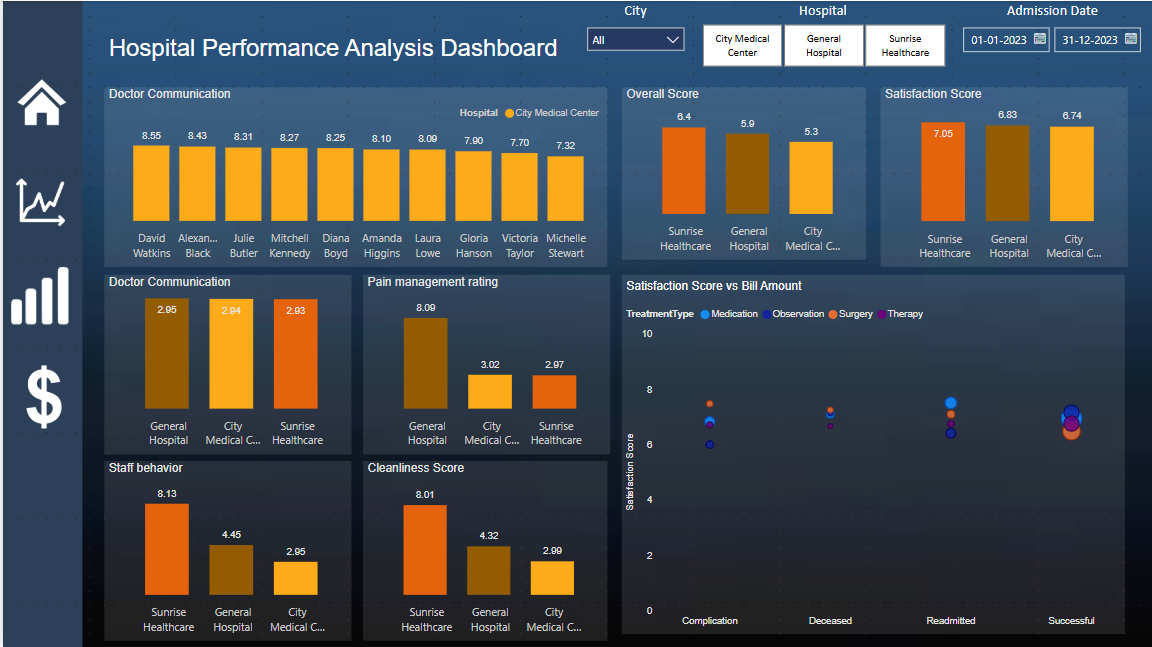

This screenshot's page, from the dashboard's own definition file:
{"tool":"powerbi","page":{"name":"Rating","canvas":[1280,720],"ordinal":2},"visuals":[{"type":"slicer","title":"Hospital","fields":{"Values":["enhanced_healthcare_data.Hospital"]},"box":[752,0,320,80],"z":0},{"type":"columnChart","title":"Doctor Communication","fields":{"Y":["enhanced_healthcare_data.DoctorCommunication"],"Category":["enhanced_healthcare_data.Doctor"],"Series":["enhanced_healthcare_data.Hospital"]},"box":[112,96,560,200],"z":1000},{"type":"slicer","title":"City","fields":{"Values":["enhanced_healthcare_data.City"]},"box":[640,0,128,112],"z":2000},{"type":"slicer","title":"Admission Date","fields":{"Values":["enhanced_healthcare_data.AdmissionDate"]},"box":[1056,0,224,80],"z":3000},{"type":"textbox","box":[112,32,528,48],"z":4000},{"type":"columnChart","title":"Doctor Communication","fields":{"Y":["enhanced_healthcare_data.DischargeInstructionsRating"],"Category":["enhanced_healthcare_data.Hospital"]},"box":[112,304,275,200],"z":5000},{"type":"columnChart","title":"Pain management rating","fields":{"Category":["enhanced_healthcare_data.Hospital"],"Y":["enhanced_healthcare_data.PainManagementRating"]},"box":[400,304,275,200],"z":6000},{"type":"columnChart","title":"Satisfaction Score","fields":{"Category":["enhanced_healthcare_data.Hospital"],"Y":["enhanced_healthcare_data.SatisfactionScore"]},"box":[976,96,275,200],"z":7000},{"type":"columnChart","title":"Staff behavior","fields":{"Category":["enhanced_healthcare_data.Hospital"],"Y":["enhanced_healthcare_data.StaffBehaviorRating"]},"box":[112,512,275,200],"z":8000},{"type":"columnChart","title":"Cleanliness Score","fields":{"Category":["enhanced_healthcare_data.Hospital"],"Y":["enhanced_healthcare_data.CleanlinessRating"]},"box":[400,512,272,200],"z":9000},{"type":"image","box":[0,80,87,64],"z":10000},{"type":"image","box":[10,192,64,64],"z":11000},{"type":"clusteredColumnChart","title":"Overall Score","fields":{"Category":["enhanced_healthcare_data.Hospital"],"Y":["enhanced_healthcare_data.Overall Score"]},"box":[688,96,272,192],"z":12000},{"type":"image","box":[4,288,74,80],"z":13000},{"type":"scatterChart","title":"Satisfaction Score vs Bill Amount","fields":{"Y":["enhanced_healthcare_data.SatisfactionScore"],"Size":["enhanced_healthcare_data.LengthOfStay"],"X":["enhanced_healthcare_data.TreatmentOutcome"],"Series":["enhanced_healthcare_data.TreatmentType"]},"box":[688,304,560,400],"z":14000},{"type":"image","box":[6,400,80,80],"z":15000}]}

Visuals, with their boxes on the page's 1280x720 design canvas (x1, y1, x2, y2). These are canvas units, not pixel positions in the 1152x647 screenshot, which may show the page scaled, cropped or inside an application window:
"Hospital" slicer: (x1=752, y1=0, x2=1072, y2=80)
"Doctor Communication" columnChart: (x1=112, y1=96, x2=672, y2=296)
"City" slicer: (x1=640, y1=0, x2=768, y2=112)
"Admission Date" slicer: (x1=1056, y1=0, x2=1280, y2=80)
textbox: (x1=112, y1=32, x2=640, y2=80)
"Doctor Communication" columnChart: (x1=112, y1=304, x2=387, y2=504)
"Pain management rating" columnChart: (x1=400, y1=304, x2=675, y2=504)
"Satisfaction Score" columnChart: (x1=976, y1=96, x2=1251, y2=296)
"Staff behavior" columnChart: (x1=112, y1=512, x2=387, y2=712)
"Cleanliness Score" columnChart: (x1=400, y1=512, x2=672, y2=712)
image: (x1=0, y1=80, x2=87, y2=144)
image: (x1=10, y1=192, x2=74, y2=256)
"Overall Score" clusteredColumnChart: (x1=688, y1=96, x2=960, y2=288)
image: (x1=4, y1=288, x2=78, y2=368)
"Satisfaction Score vs Bill Amount" scatterChart: (x1=688, y1=304, x2=1248, y2=704)
image: (x1=6, y1=400, x2=86, y2=480)
